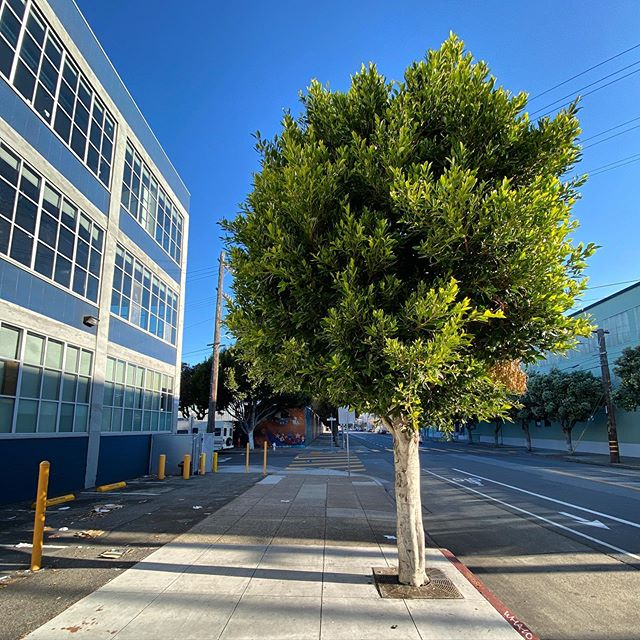building: (1, 1, 183, 476)
crosswalk: (289, 441, 370, 478)
sidewalk: (57, 468, 534, 640)
street: (361, 441, 640, 640)
tree: (213, 27, 606, 576)
